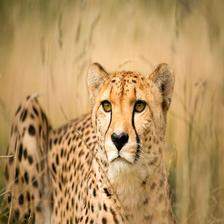Cheetah: (0, 61, 180, 224)
